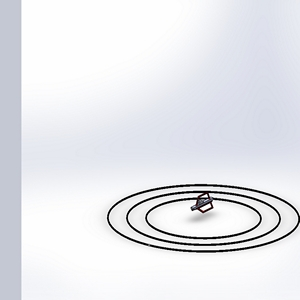circle: (101, 177, 300, 257)
submarine: (189, 190, 221, 218)
